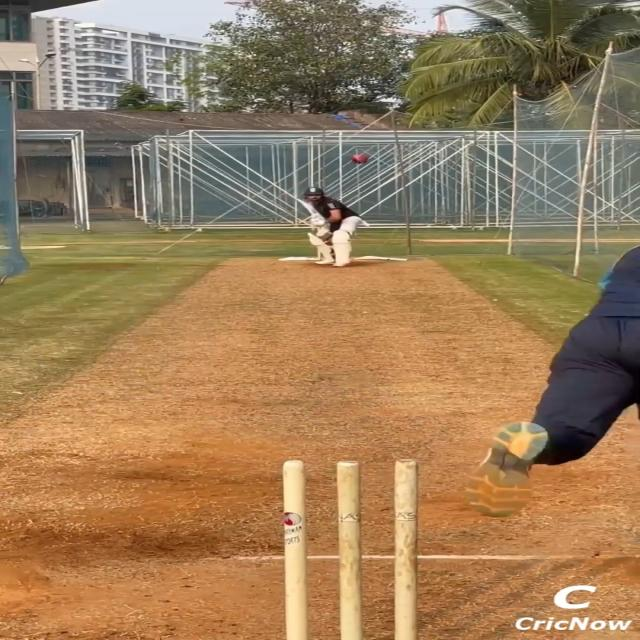ball: (350, 153, 369, 165)
stump: (281, 457, 422, 640)
